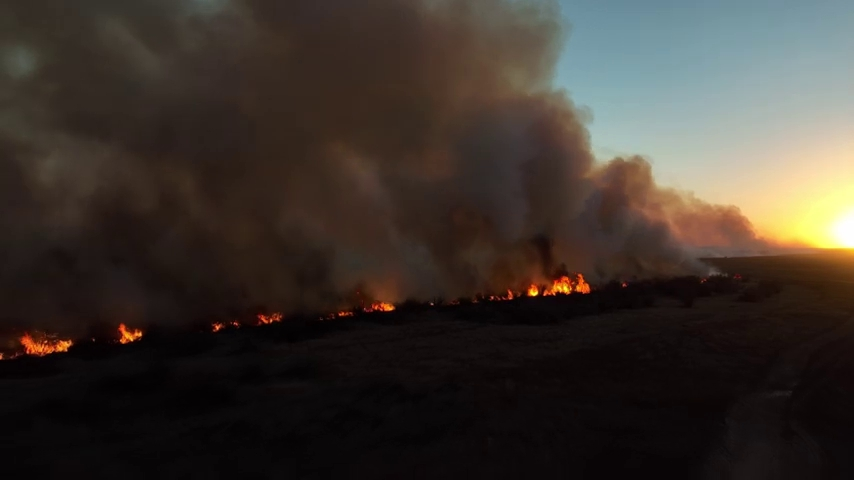forest_fire: (518, 273, 591, 297), (18, 333, 74, 356), (117, 324, 143, 343), (360, 302, 395, 312), (258, 312, 282, 324), (487, 290, 516, 299), (212, 322, 239, 330), (328, 311, 354, 317)
